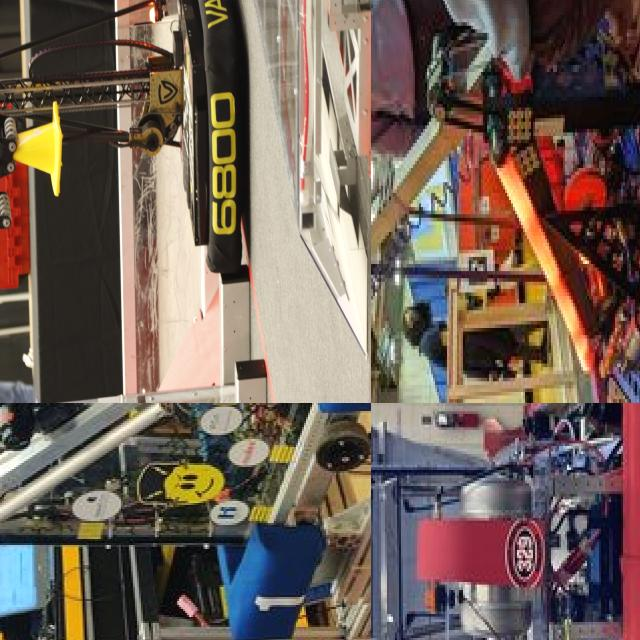FRC-Robots: (371, 0, 640, 403), (0, 0, 275, 310), (0, 403, 371, 612), (371, 403, 640, 640)
